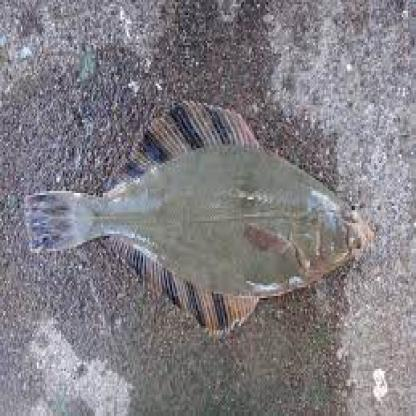flounder: (12, 89, 390, 340)
